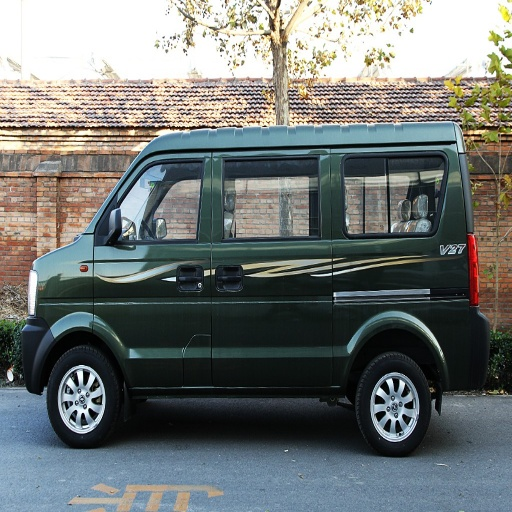back_left_door: (214, 152, 308, 290)
trunk: (347, 260, 472, 386)
